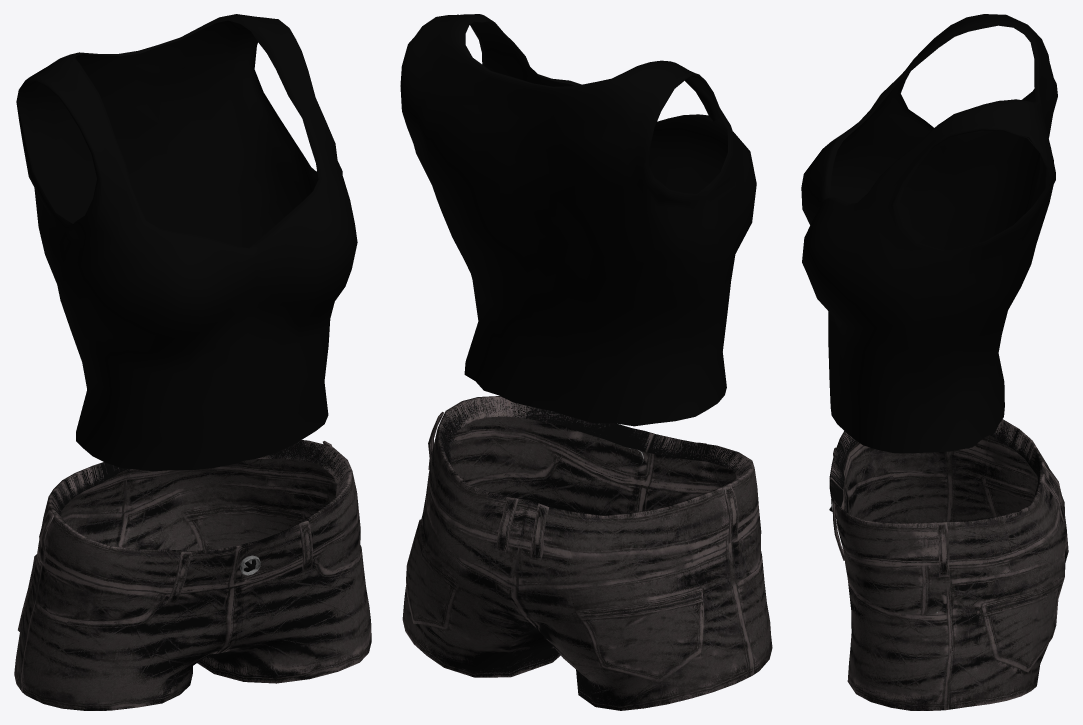
File: womanSuit10.obj
3 views of the same model, side by side, from view 1: azimuth 30°, elevation 25°; view 2: azimuth 150°, elevation 25°; view 3: azimuth 270°, elevation 25° (orthographic). The views are drawn at different scales.
Parts seen in each view (by area): view 1: Dress, Low-rise Shorts; view 2: Dress, Low-rise Shorts; view 3: Dress, Low-rise Shorts.
Part boxes in pixels (x1,y1,x2,y2): Dress: (16,14,357,471); Low-rise Shorts: (14,440,371,710); Dress: (400,14,756,426); Low-rise Shorts: (402,396,772,710); Dress: (801,14,1057,453); Low-rise Shorts: (829,419,1068,710).
Size of the model in its own units: 38.47 by 67.98 by 27.82.
